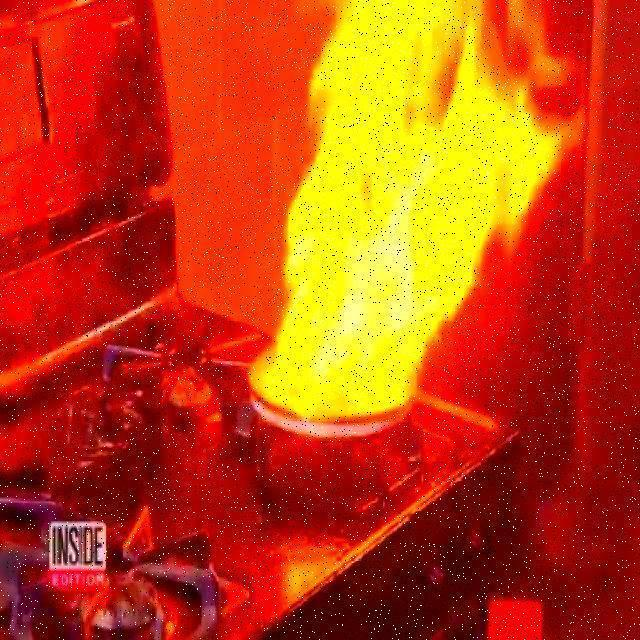smoke: (248, 0, 564, 420)
